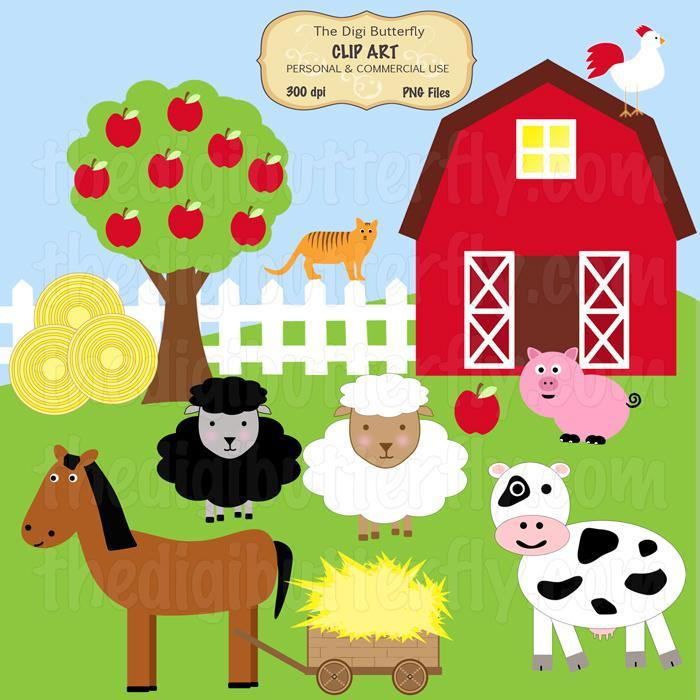bird: (580, 18, 669, 118)
cat: (260, 219, 383, 282)
cow: (486, 457, 683, 673)
horse: (14, 439, 294, 692)
sheep: (300, 376, 469, 541), (151, 378, 305, 521)
